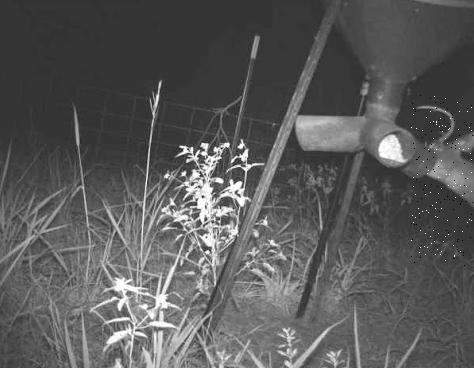Deer: (411, 95, 474, 266)
